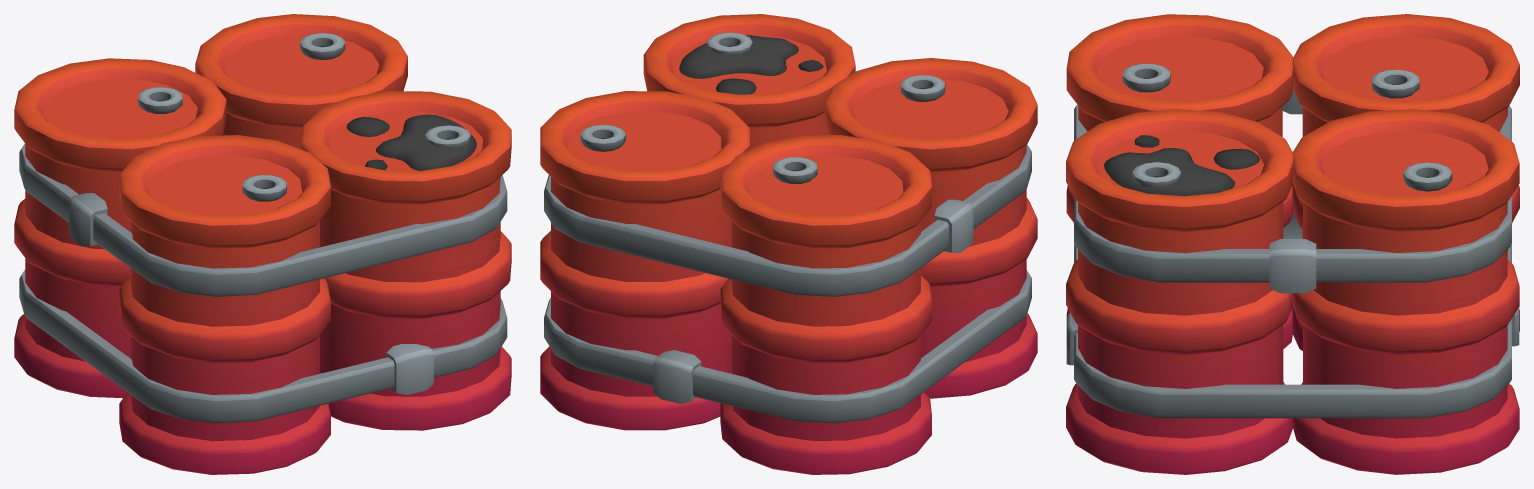
Rendered from fuel_barrels.glb.
3 views of the same model, side by side, from view 1: azimuth 30°, elevation 25°; view 2: azimuth 150°, elevation 25°; view 3: azimuth 270°, elevation 25° (orthographic). The views are drawn at different scales.
Parts seen in each view (by area): view 1: Fuel_A_Barrels; view 2: Fuel_A_Barrels; view 3: Fuel_A_Barrels.
Part boxes in pixels (<box>): Fuel_A_Barrels: <box>14,14,511,474</box>; Fuel_A_Barrels: <box>540,14,1037,474</box>; Fuel_A_Barrels: <box>1066,14,1519,474</box>.
Size of the model in its own units: 1.51 by 1.01 by 1.51.
1 material, 1 textured.
